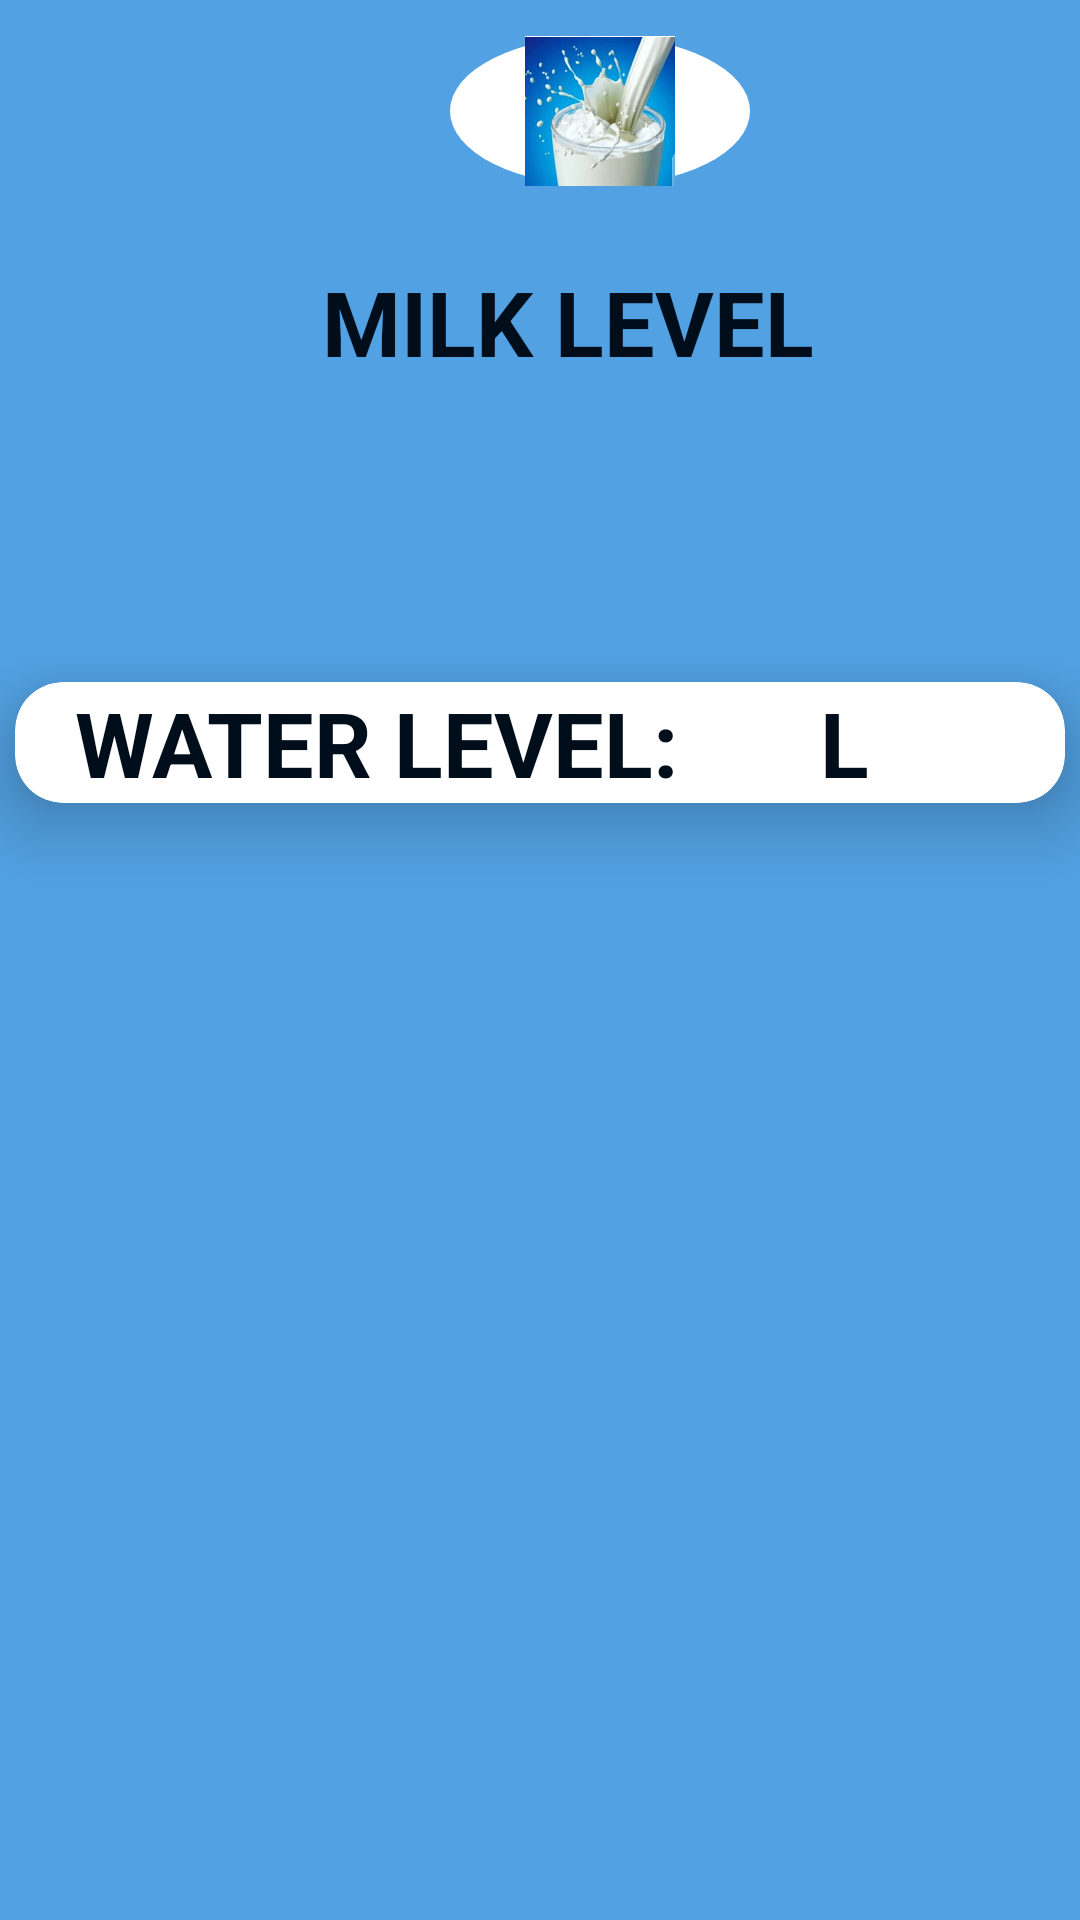

Icons on this 1080px×1920px Android screen, each with the point to tap as (x=x, y=y):
milk glass: (x=600, y=111)
